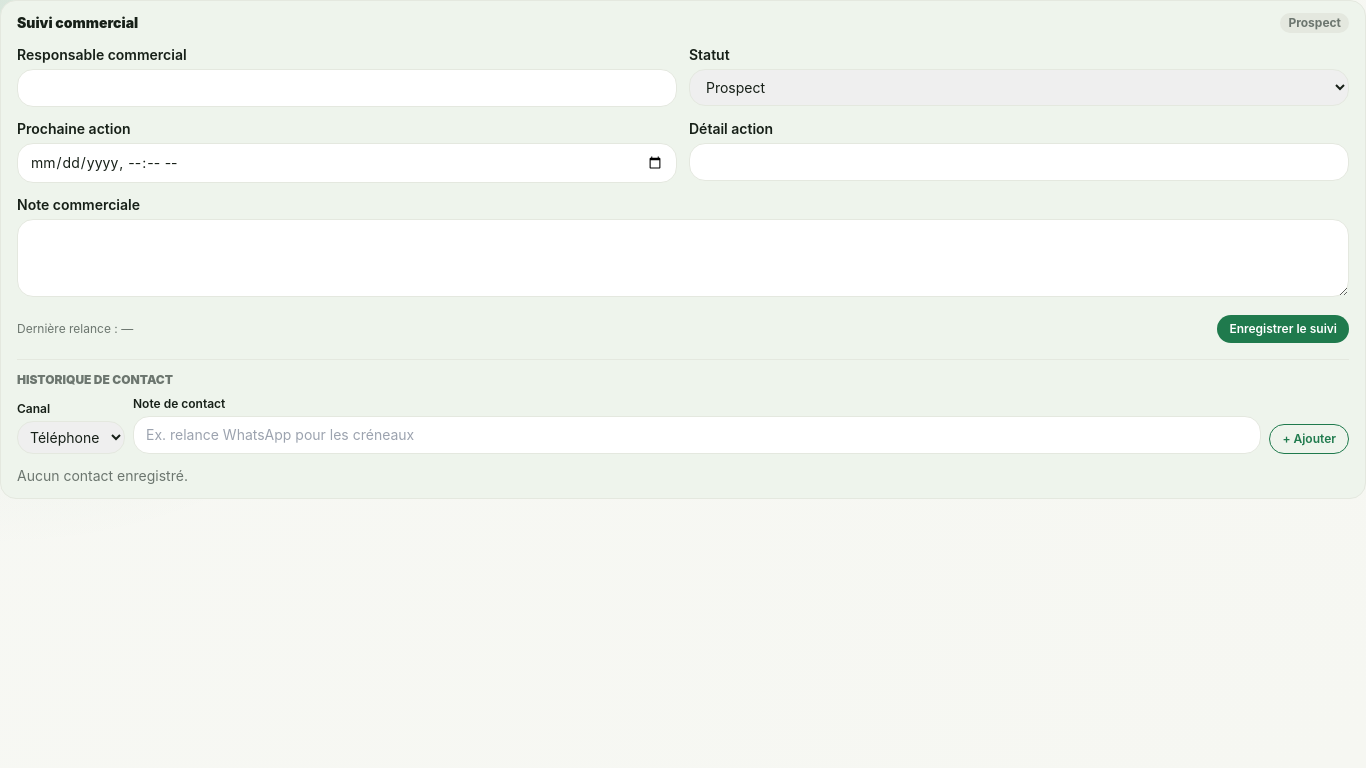
Test: MerchantCrmSection › enregistre le suivi commercial avec le bon payload
Type "Sami" into the field labelled "Responsable commercial" at (347, 88), box [17,69,677,107]
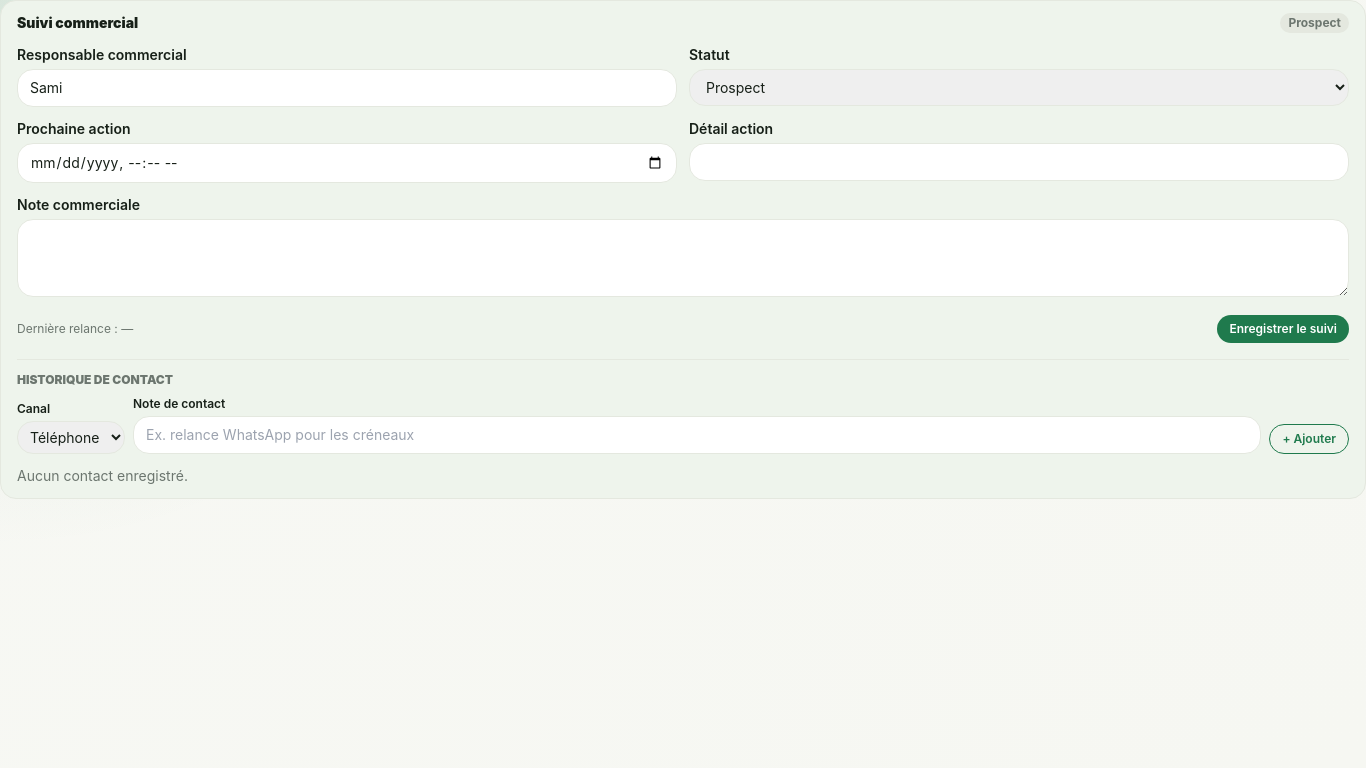
Select "Client" in the dropdown labelled "Statut" at (1019, 88), box [689,69,1349,106]
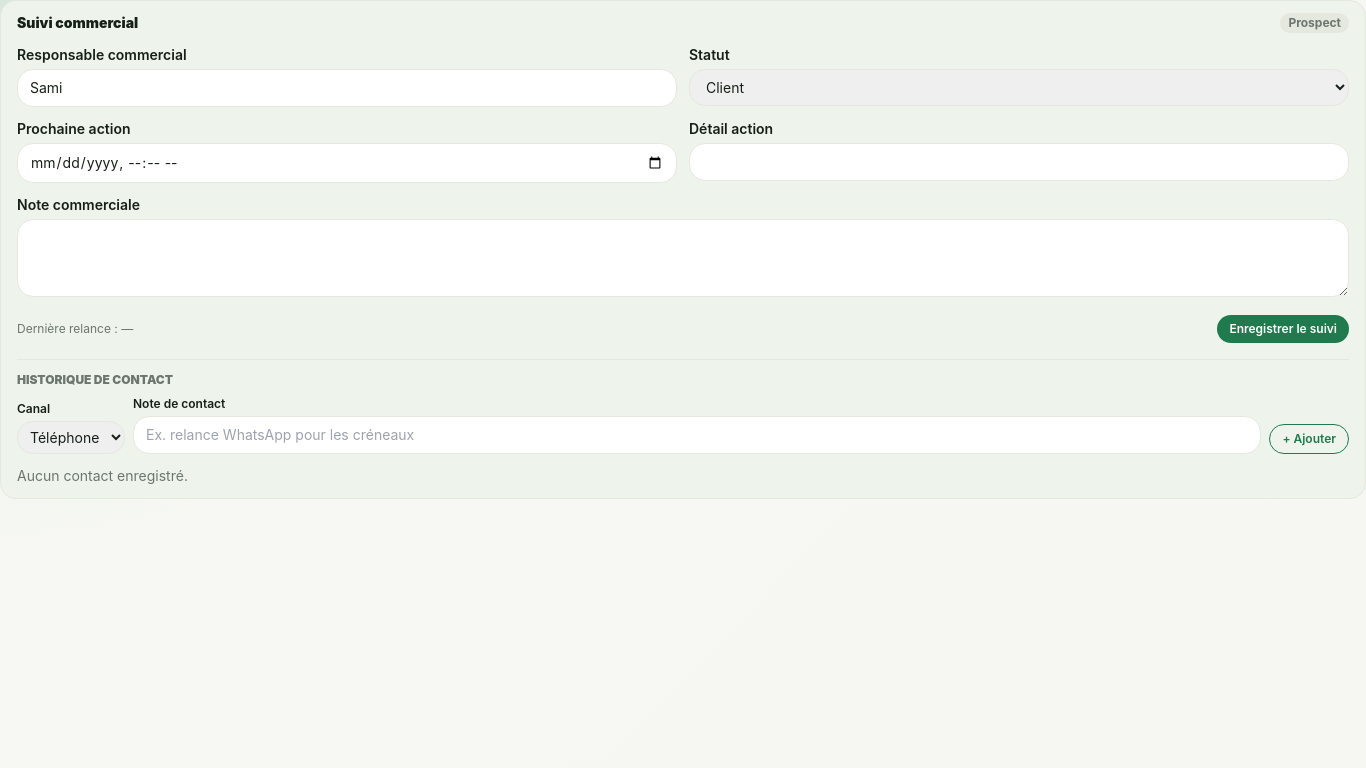
Type "Marchand fidèle." into the text box labelled "Note commerciale" at (683, 258), box [17,219,1349,297]
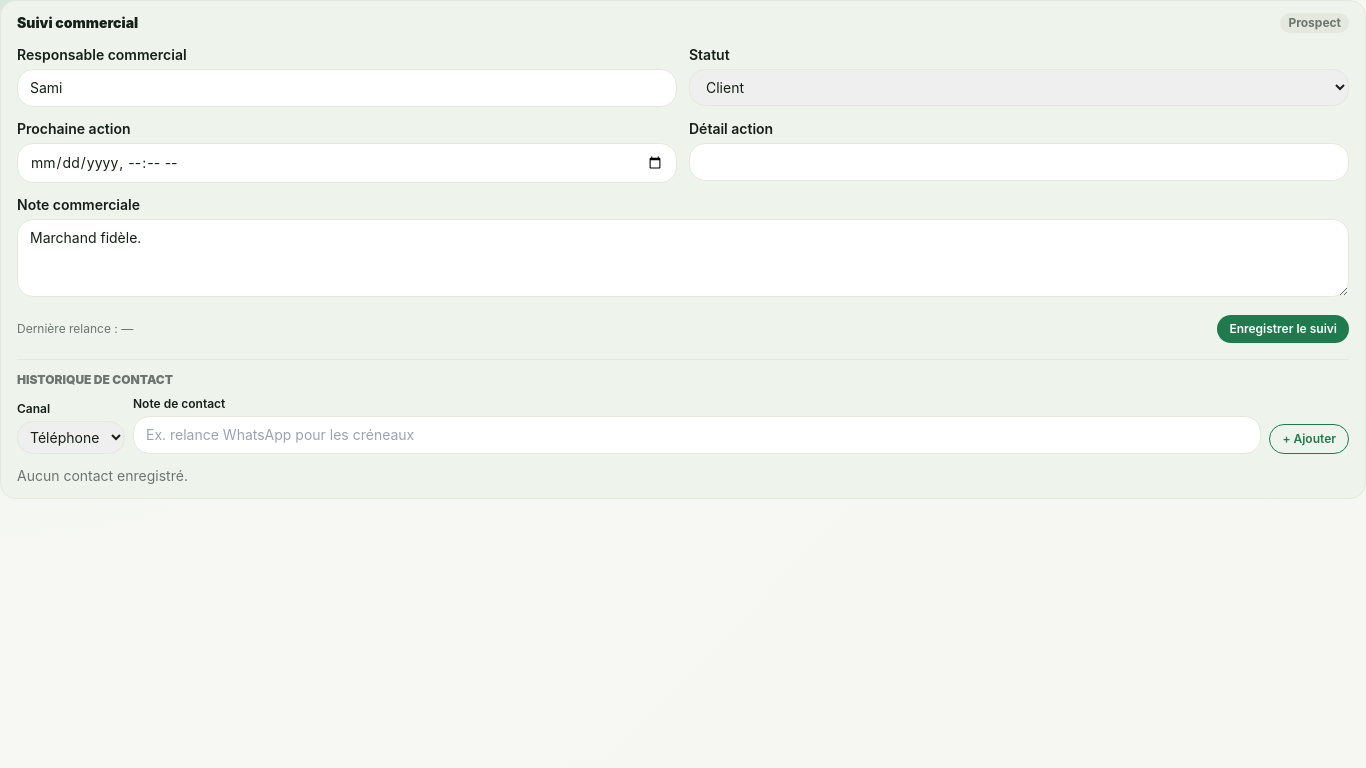
Click the button "Enregistrer le suivi" at (1283, 329), box [1217,315,1349,343]
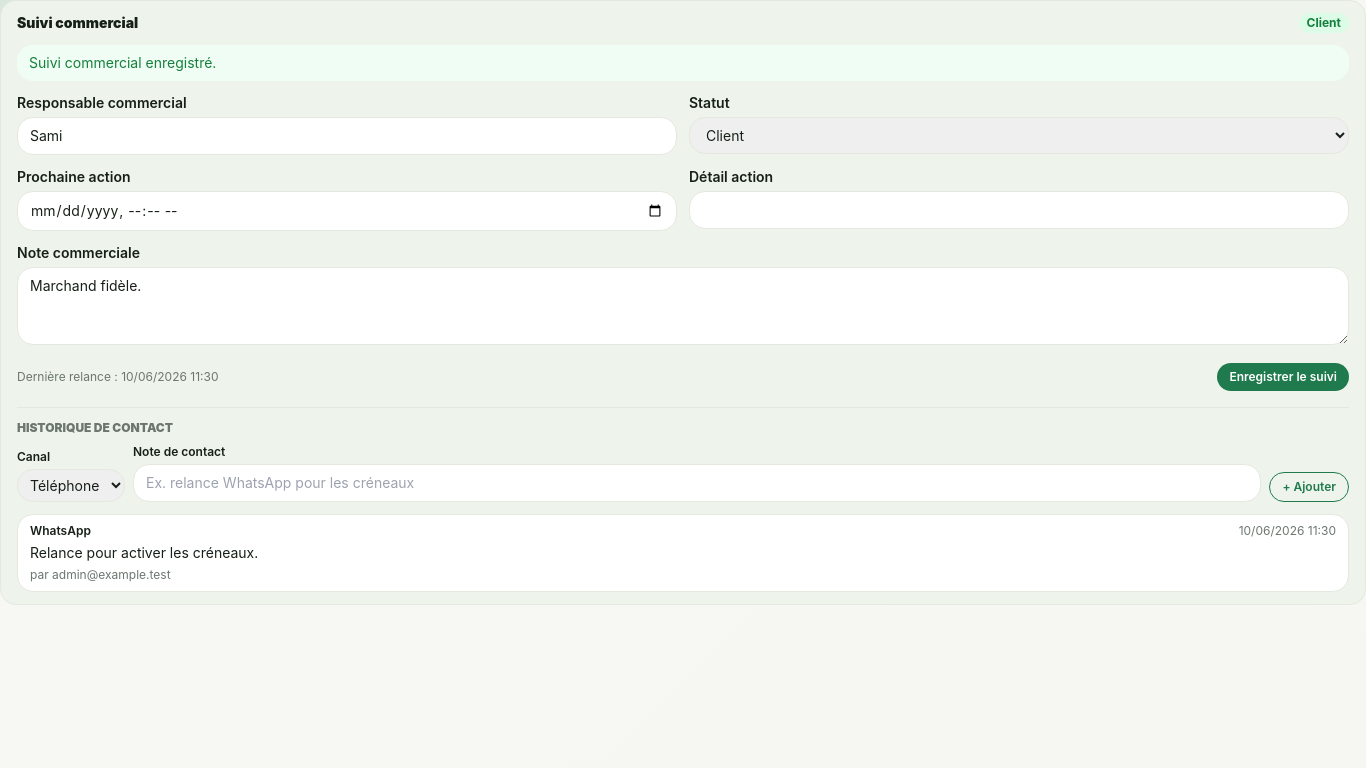
Result: the text "Suivi commercial enregistré." is shown at [17,45,1349,81]
